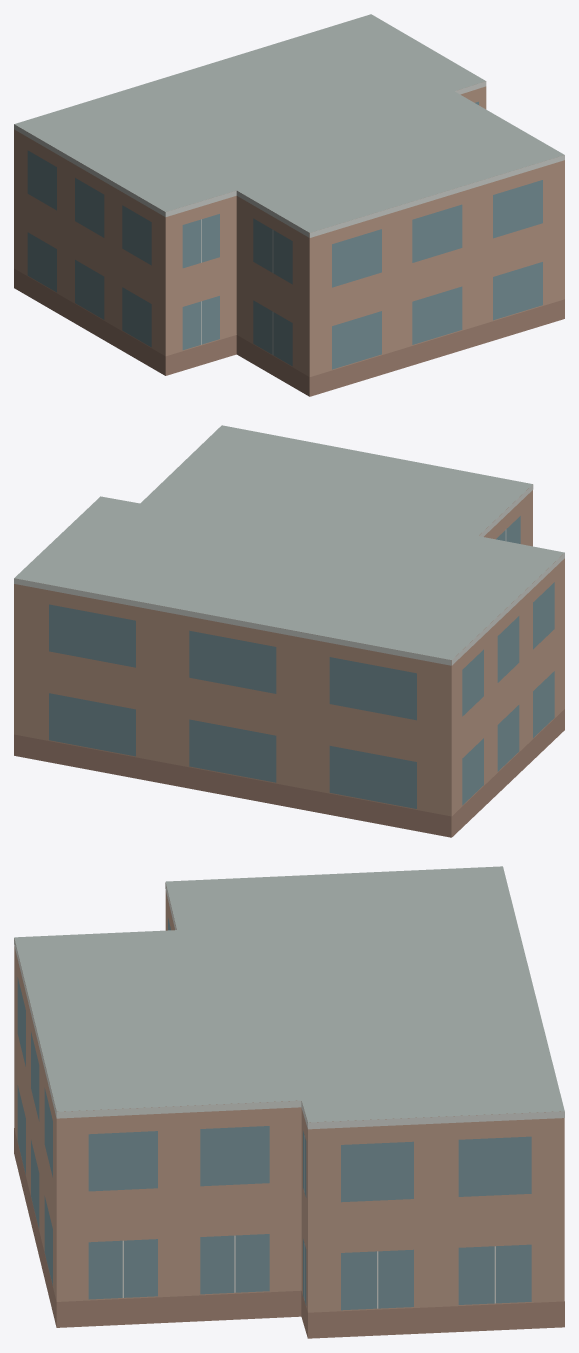
Rendered from survey-upis-32982841.glb.
The picture shows the model from 3 angles, top to bottom: view 1: azimuth 30°, elevation 25°; view 2: azimuth 150°, elevation 25°; view 3: azimuth 270°, elevation 25°; orthographic projection. The views are drawn at different scales.
Visible parts, largest first — view 1: survey-upis-32982841.tmp; view 2: survey-upis-32982841.tmp; view 3: survey-upis-32982841.tmp.
Boxes of the visible parts, <box> form: survey-upis-32982841.tmp: <box>14,14,564,396</box>; survey-upis-32982841.tmp: <box>14,425,564,837</box>; survey-upis-32982841.tmp: <box>14,866,564,1338</box>.
Size of the model in its own units: 19.64 by 7.72 by 17.84.
